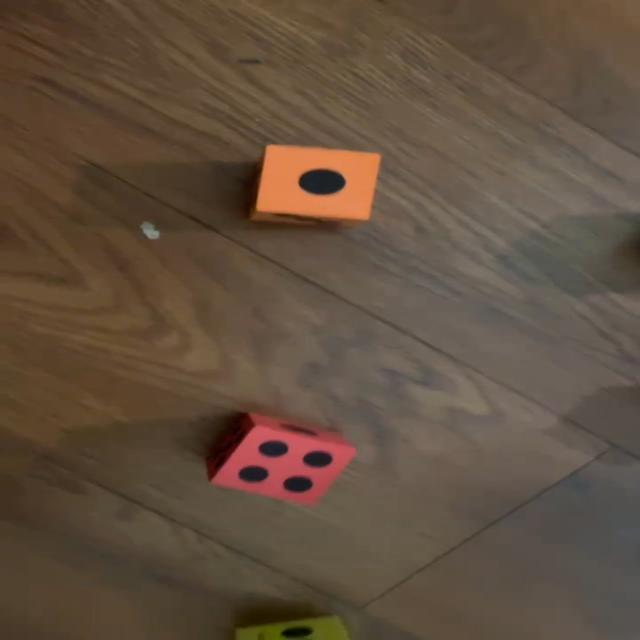red_block: (207, 413, 353, 504)
